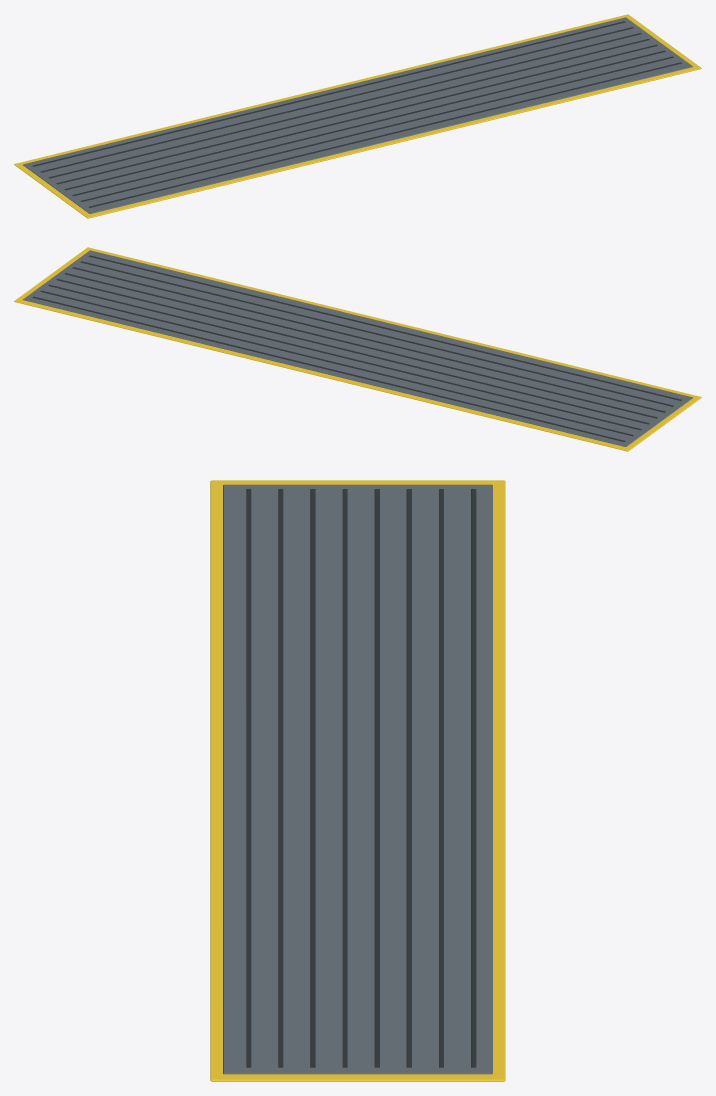
File: dielectric-mat.glb
The picture shows the model from 3 angles, top to bottom: view 1: azimuth 30°, elevation 25°; view 2: azimuth 150°, elevation 25°; view 3: azimuth 270°, elevation 25°; orthographic projection. The views are drawn at different scales.
Parts seen in each view (by area): view 1: DielectricMatMesh; view 2: DielectricMatMesh; view 3: DielectricMatMesh.
Part boxes in pixels (x1,y1,x2,y2): DielectricMatMesh: (14, 14, 701, 218); DielectricMatMesh: (14, 247, 701, 451); DielectricMatMesh: (210, 480, 505, 1081).
Size of the model in its own units: 4.42 by 0.0145 by 0.92.
